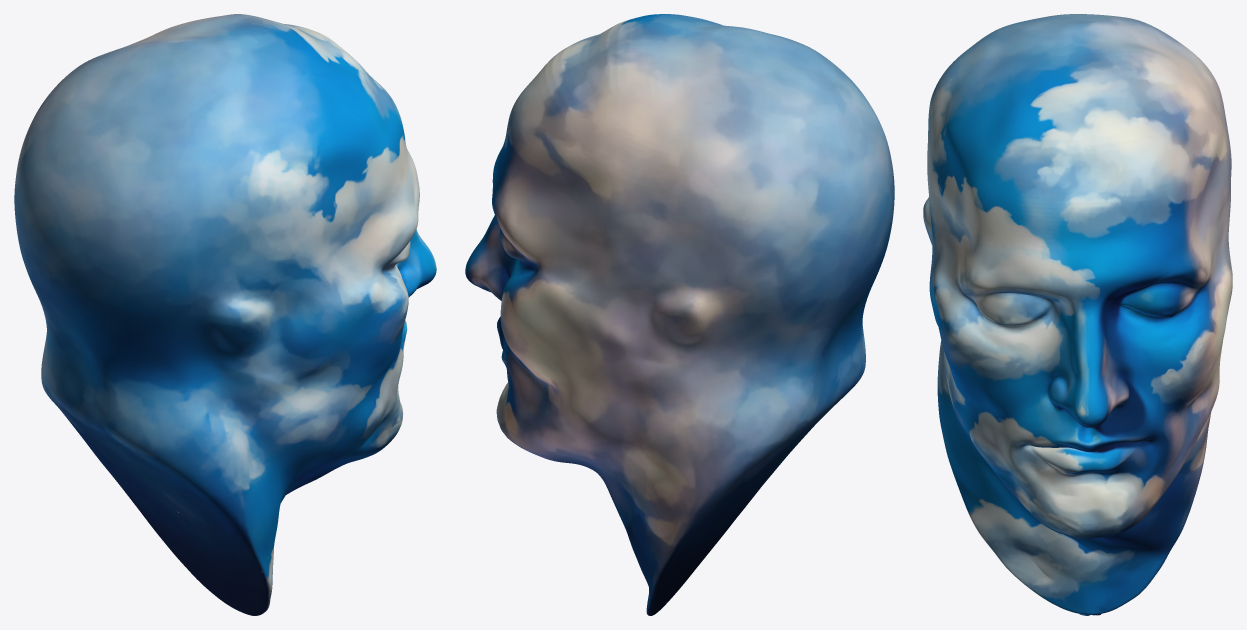
File: bust.glb
3 renders of one model, left to right at view 1: azimuth 30°, elevation 25°; view 2: azimuth 150°, elevation 25°; view 3: azimuth 270°, elevation 25°, orthographic. The views are drawn at different scales.
Visible parts, largest first — view 1: tripo_node_50a12b95-26b4-4d15-ab47-1dda0738fc6e; view 2: tripo_node_50a12b95-26b4-4d15-ab47-1dda0738fc6e; view 3: tripo_node_50a12b95-26b4-4d15-ab47-1dda0738fc6e.
Boxes of the visible parts, x1=… form: tripo_node_50a12b95-26b4-4d15-ab47-1dda0738fc6e: x1=14, y1=14, x2=436, y2=615; tripo_node_50a12b95-26b4-4d15-ab47-1dda0738fc6e: x1=465, y1=14, x2=894, y2=615; tripo_node_50a12b95-26b4-4d15-ab47-1dda0738fc6e: x1=923, y1=14, x2=1232, y2=615.
Size of the model in its own units: 0.7043 by 0.9799 by 0.4875.
1 material, 1 textured.
